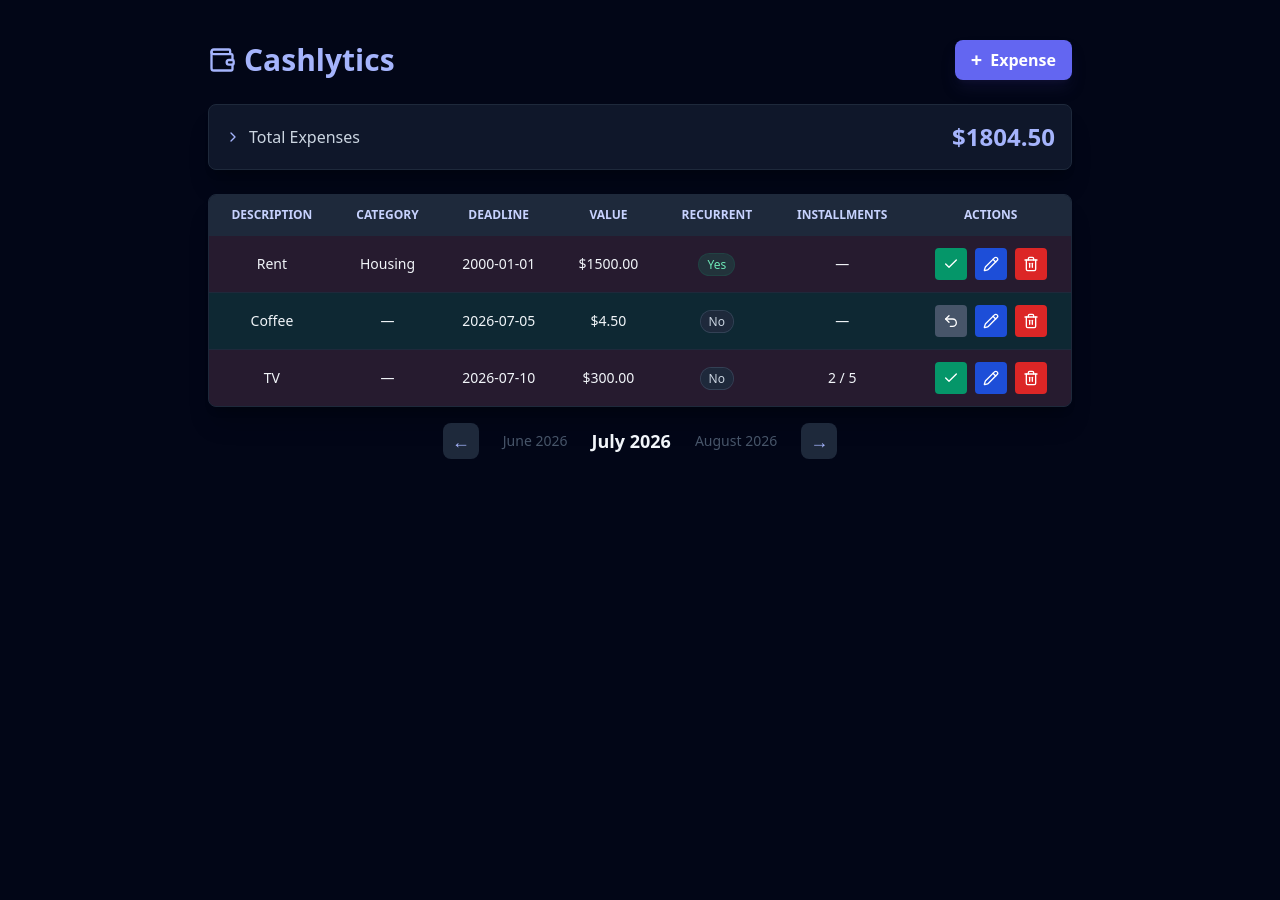
Test: Home › opens the modal with an installment expense pre-filled
Check: the text "TV" is shown, box top-left (209, 350), bottom-right (335, 406)
Click the button named "edit expense" in the row of "TV". click: (991, 378)
box: top-left (975, 362), bottom-right (1007, 394)
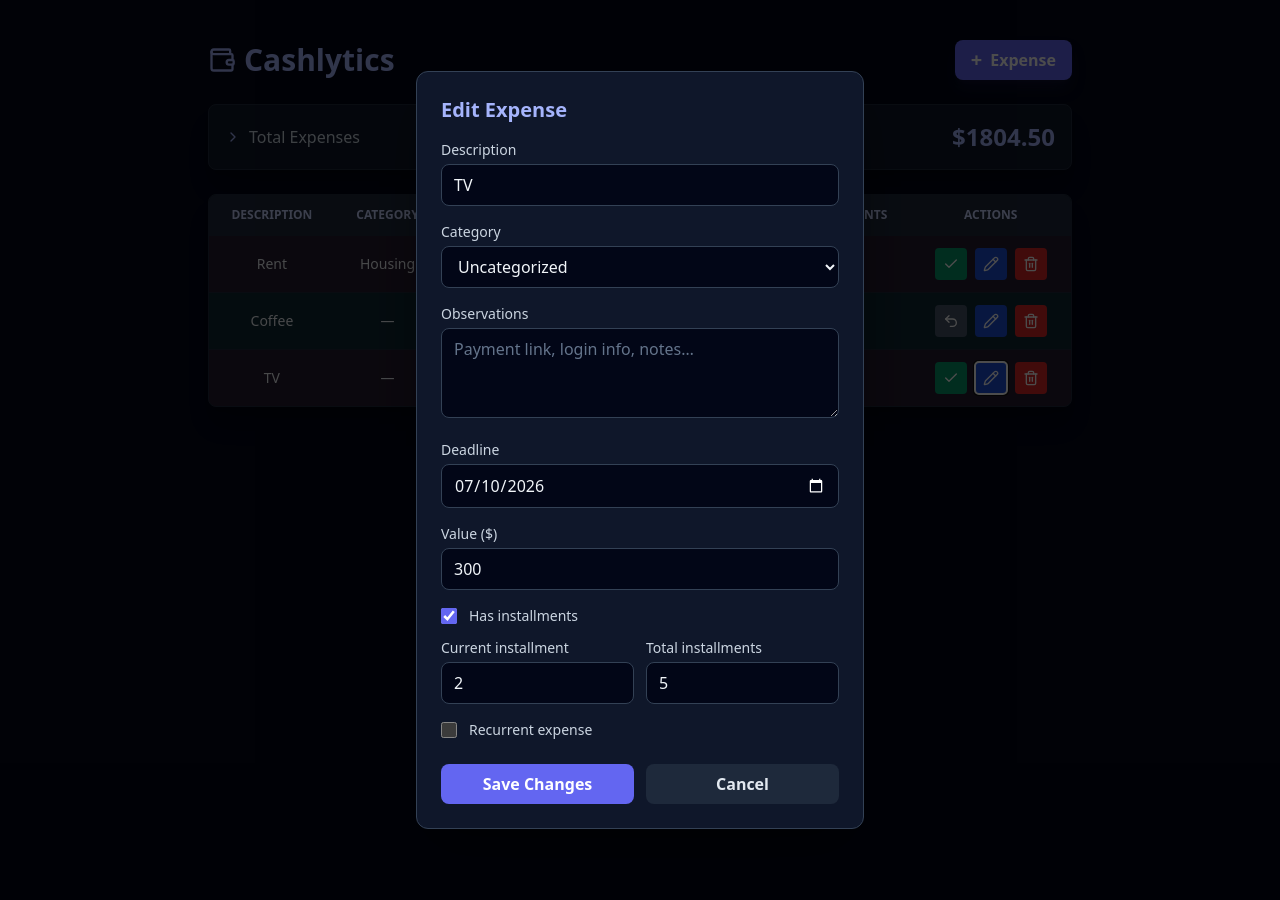
Check: the heading "Edit Expense" is shown, box top-left (441, 96), bottom-right (567, 123)
Check: the checkbox labelled "Has installments" is checked, box top-left (441, 608), bottom-right (457, 624)
Check: the 2nd number field showing "2" is shown, box top-left (441, 662), bottom-right (634, 704)
